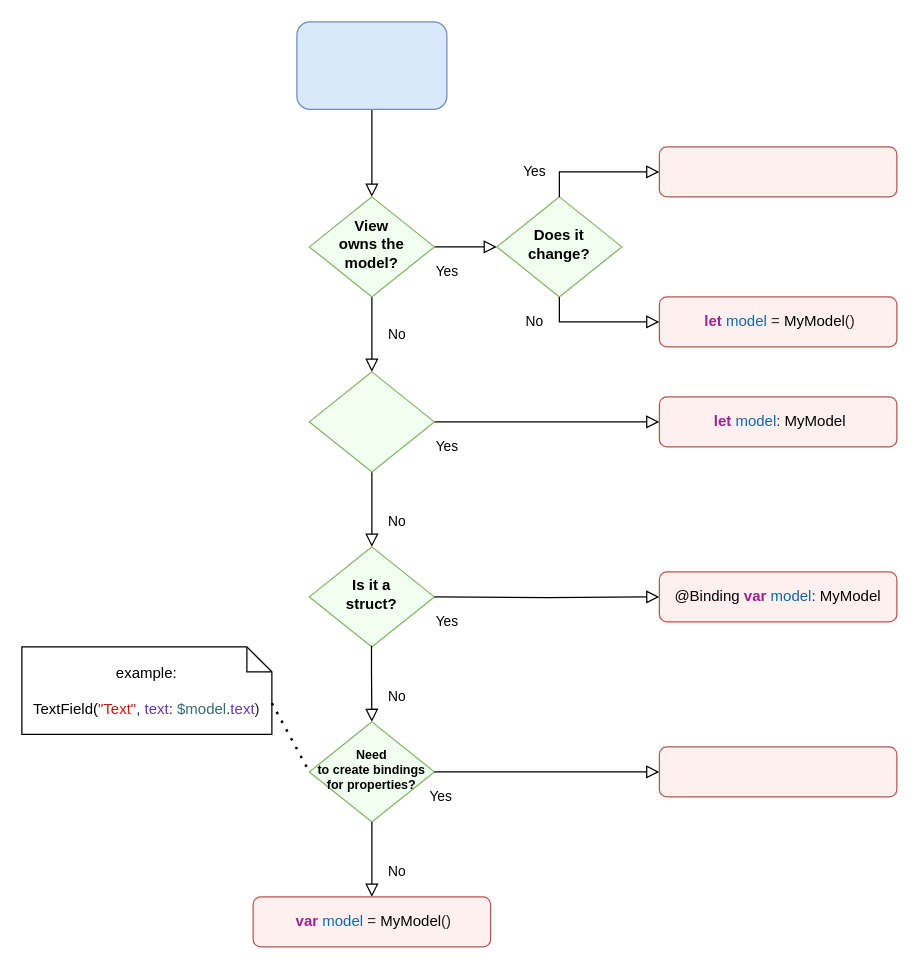
Some shapes in this 919 by 969 pixel diagram are drawn without their labels. Here are the shapes that lost their labels. From the top down, the centre of each, then its label:
the point at 371,65: Which property wrapper to choose?
the point at 777,171: @State var model = MyModel ()
the point at 371,421: Is it read-only?
the point at 777,771: @Bindable var model : MyModel
